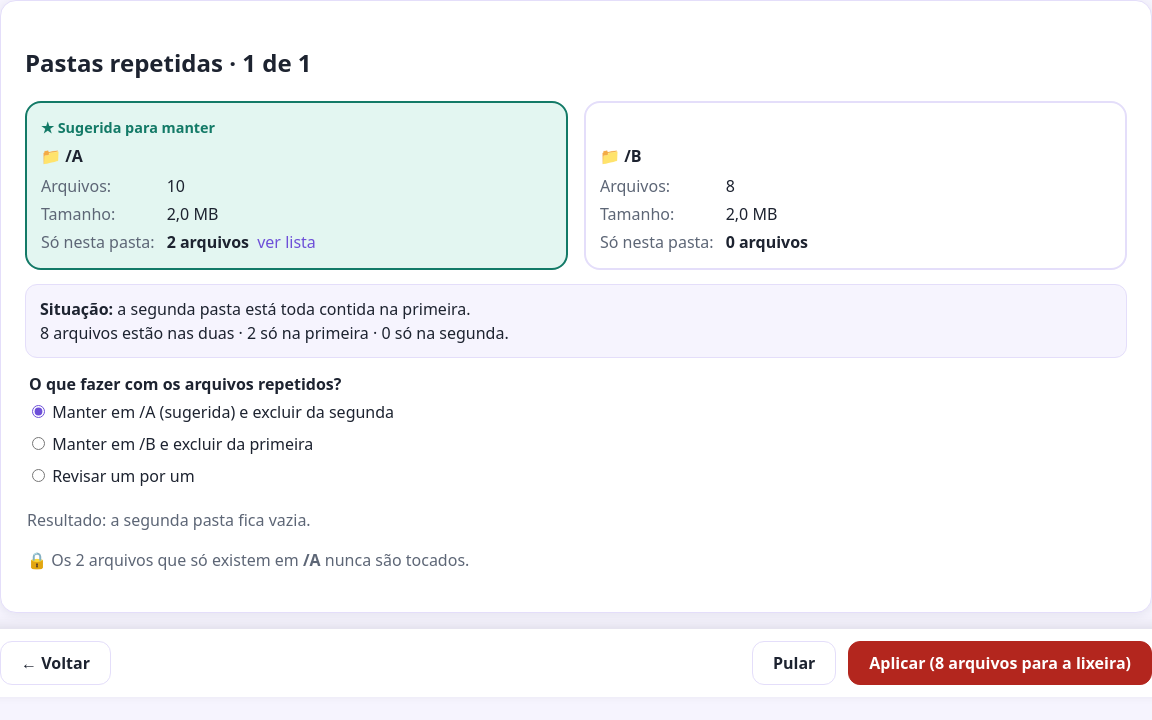
Test case: modal confirma e envia os items do plano mostrado, uma vez só com clique duplo
The width and height of the screenshot is (1152, 720).
Check: the text "Resultado: a segunda pasta fica vazia." is shown, box [27, 509, 311, 531]
Click the button "Aplicar (8 arquivos para a lixeira)" at x=1000, y=663, box [848, 641, 1151, 685]
(page scrolled)
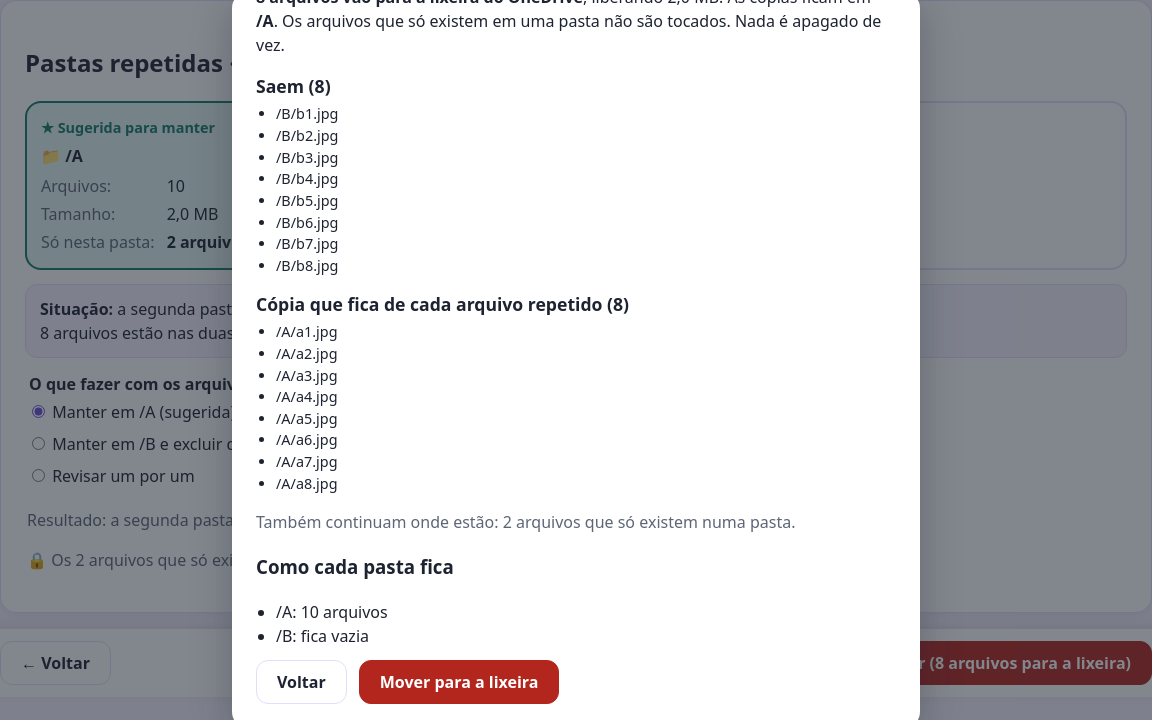
Check: the dialog shows "Nada é apagado de vez", box [256, 10, 881, 56]
Check: the list named "Arquivos que saem" shows "/B/b1.jpg", box [276, 104, 338, 124]
Check: the heading "Cópia que fica de cada arquivo repetido (8)" is shown, box [256, 292, 629, 316]
Double-click the button "Mover para a lixeira" at x=459, y=682, box [359, 660, 560, 704]
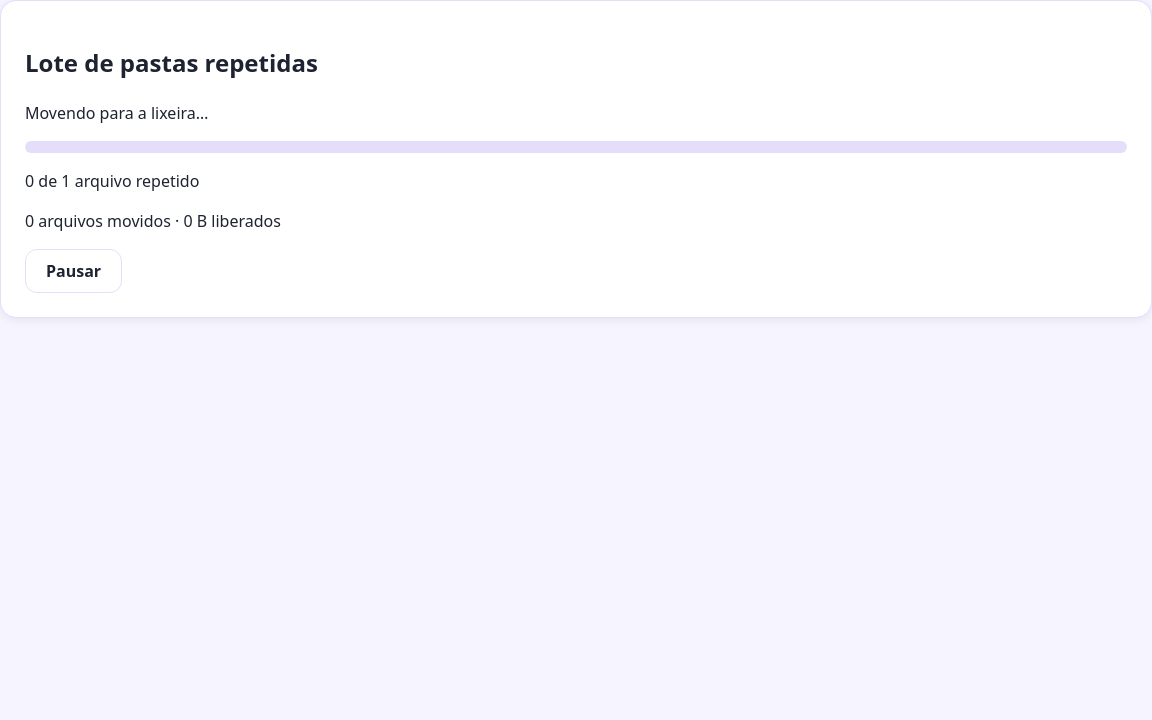
Check: the heading "Lote de pastas repetidas" is shown, box [25, 46, 318, 79]
